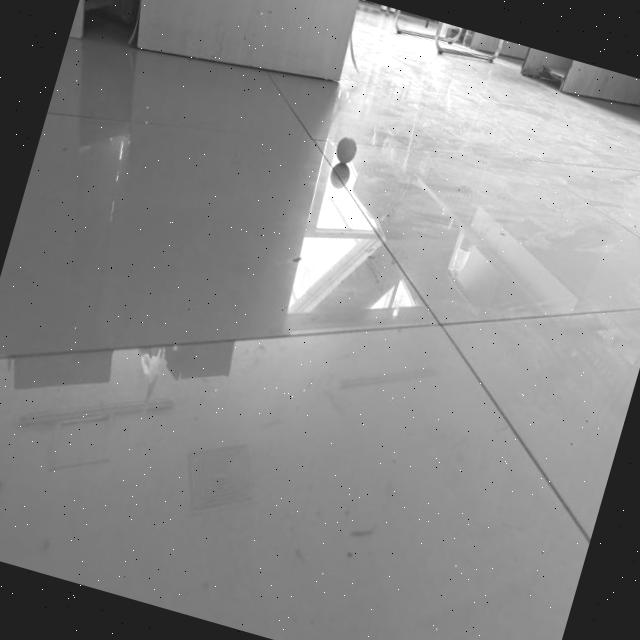ping-pong-ball: (332, 134, 360, 166)
